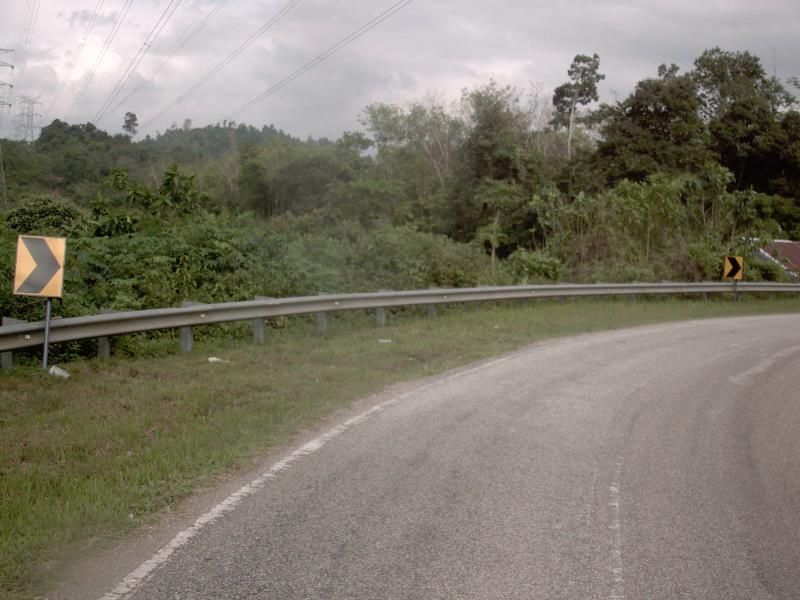traffic_sign: (7, 225, 73, 309)
